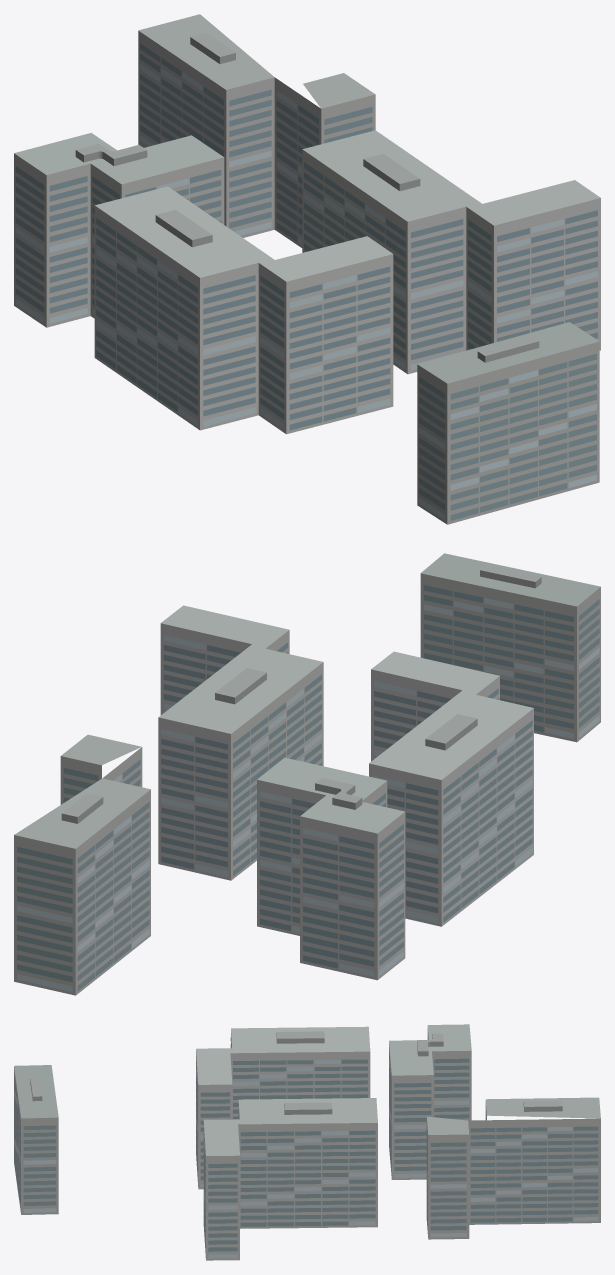
File: apt-a15603004.glb
3 renders of one model, top to bottom at view 1: azimuth 30°, elevation 25°; view 2: azimuth 150°, elevation 25°; view 3: azimuth 270°, elevation 25°, orthographic. The views are drawn at different scales.
Visible parts, largest first — view 1: apt-a15603004; view 2: apt-a15603004; view 3: apt-a15603004.
Boxes of the visible parts, left/top/right/bottom form: apt-a15603004: left=14, top=14, right=600, bottom=524; apt-a15603004: left=14, top=553, right=600, bottom=995; apt-a15603004: left=14, top=1024, right=600, bottom=1260.
Size of the model in its own units: 103 by 40 by 195.
